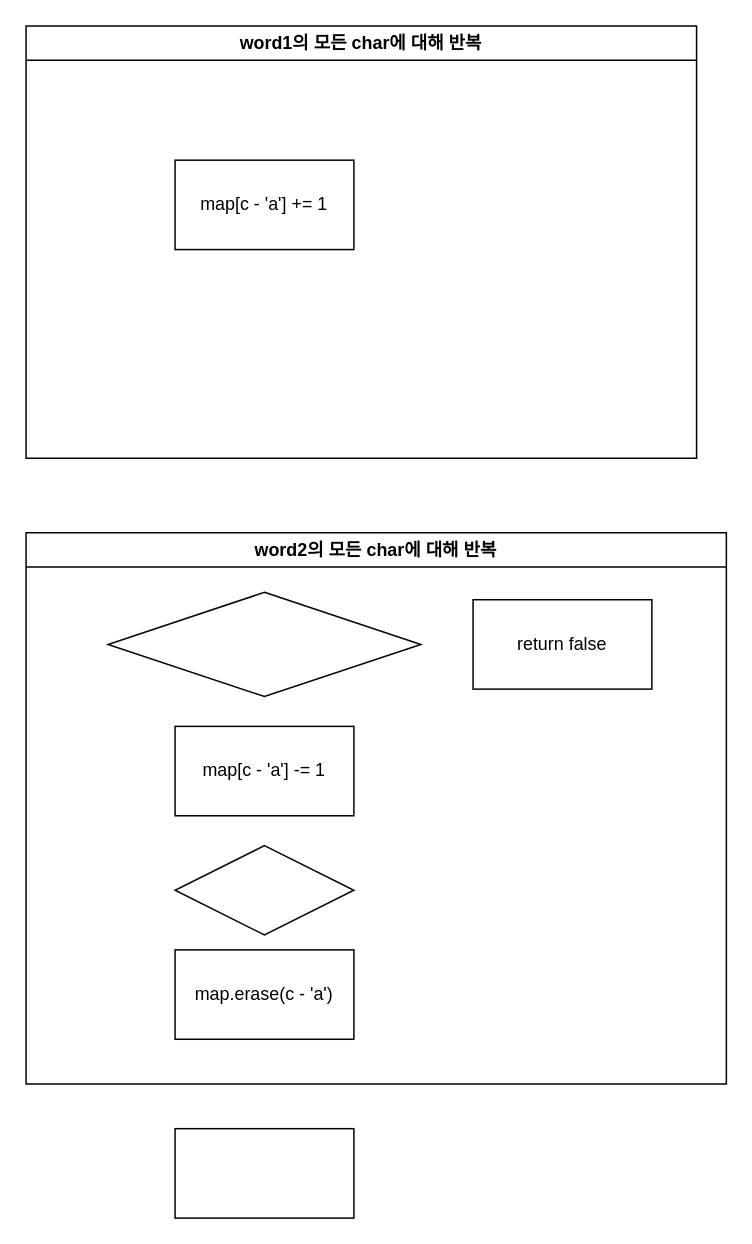
This 752x1244 diagram has some shape labels left out. Each missing label, with the centre of its shape:
"map.find(c - 'a') == map.end() 인가?" goes at pixel 264 644.
"map[c ' a'] 가 0인가?" goes at pixel 264 889.
"return map.empty()" goes at pixel 264 1172.
